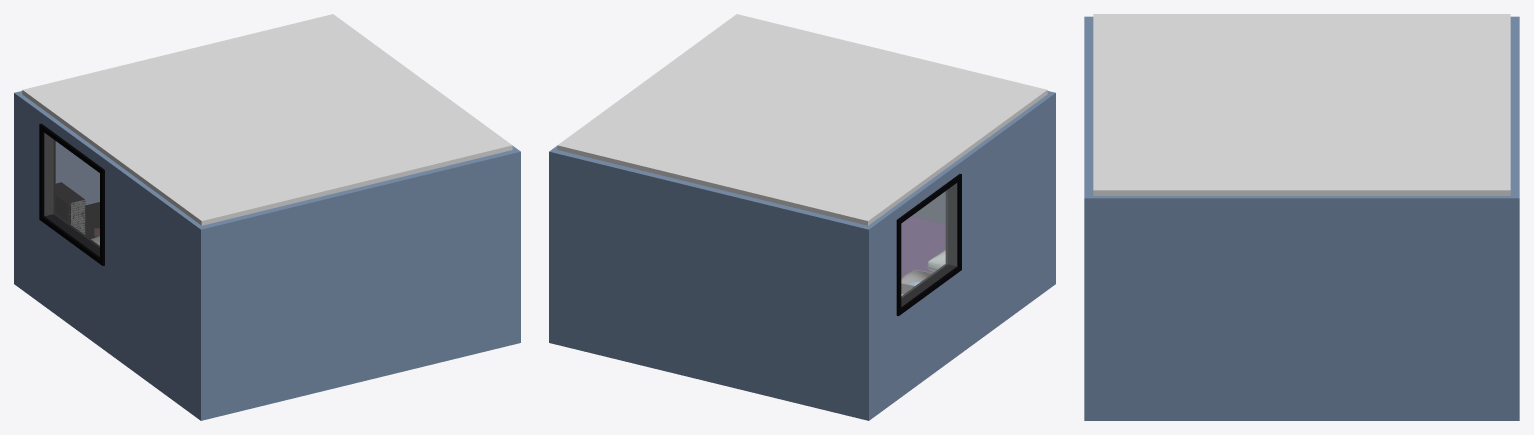
File: Room-transformed.glb
The picture shows the model from 3 angles, left to right: view 1: azimuth 30°, elevation 25°; view 2: azimuth 150°, elevation 25°; view 3: azimuth 270°, elevation 25°; orthographic projection. The views are drawn at different scales.
Parts seen in each view (by area): view 1: Plane.006, Cylinder, Window Glass, Plane.002, keyboard_back, table; view 2: Plane.006, Cylinder, Plane.002, Window Glass; view 3: Plane.006, Cylinder.
Boxes of the visible parts, x1=… form: Plane.006: x1=14, y1=91, x2=520, y2=420; Cylinder: x1=22, y1=14, x2=512, y2=225; Window Glass: x1=44, y1=133, x2=99, y2=256; Plane.002: x1=39, y1=123, x2=104, y2=265; keyboard_back: x1=55, y1=182, x2=84, y2=232; table: x1=85, y1=202, x2=99, y2=238; Plane.006: x1=549, y1=91, x2=1055, y2=420; Cylinder: x1=557, y1=14, x2=1047, y2=225; Plane.002: x1=896, y1=174, x2=961, y2=316; Window Glass: x1=901, y1=183, x2=956, y2=306; Plane.006: x1=1084, y1=16, x2=1519, y2=420; Cylinder: x1=1093, y1=14, x2=1510, y2=195.
Bounding box in the file's own units: 7.05 × 4.1 × 7.09.
Materials: 10 (10 with a texture image).
